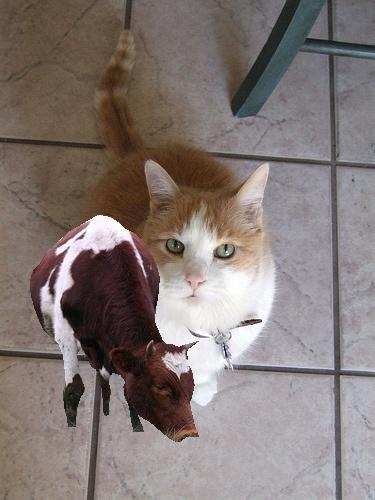tampered: (31, 216, 199, 442)
